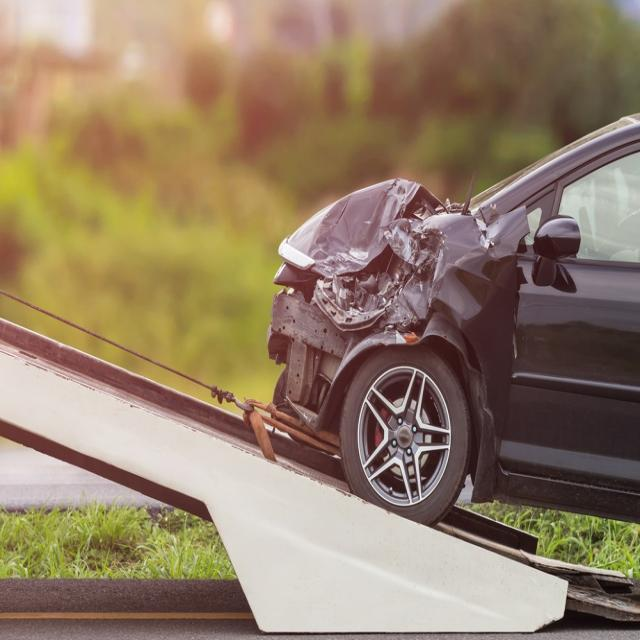crush: (267, 170, 529, 456)
